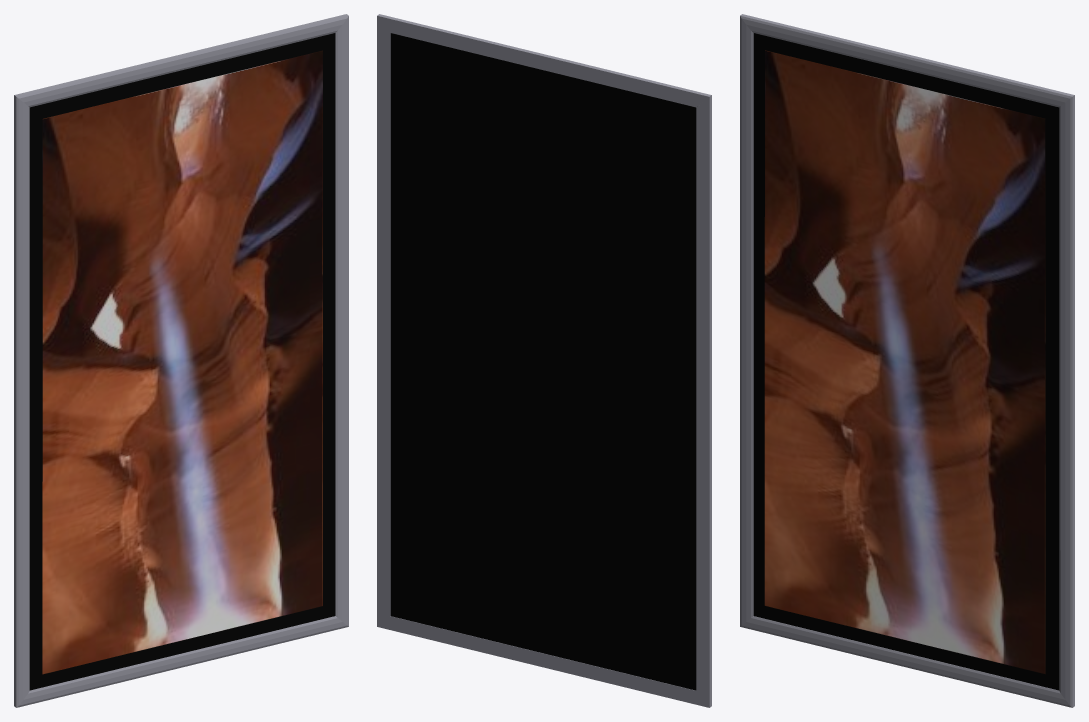
File: AntelopeCanyonFrame.obj
3 views of the same model, side by side, from view 1: azimuth 30°, elevation 25°; view 2: azimuth 150°, elevation 25°; view 3: azimuth 330°, elevation 25° (orthographic).
Visible parts, largest first — view 1: Photo_Cube, MetalFrame_Cylinder, Frame_Black; view 2: Frame_Black, MetalFrame_Cylinder; view 3: Photo_Cube, MetalFrame_Cylinder, Frame_Black.
Boxes of the visible parts, box(x1,y1,x2,y2) form: Photo_Cube: box(42, 50, 322, 674); MetalFrame_Cylinder: box(14, 14, 348, 707); Frame_Black: box(29, 33, 335, 690); Frame_Black: box(390, 33, 696, 690); MetalFrame_Cylinder: box(377, 14, 711, 707); Photo_Cube: box(764, 50, 1045, 673); MetalFrame_Cylinder: box(740, 14, 1074, 707); Frame_Black: box(753, 33, 1059, 690).
Size of the model in its own units: 50.1 by 88.01 by 0.8053.
Materials: 3 (1 with a texture image).
